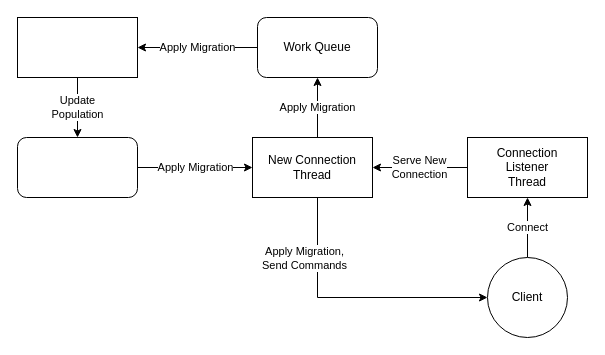
The diagram is 605 pixels wide and 355 high, and some of its shapes have lost their labels. Here are the shapes that lost their labels. From the top down, the box of each, then its label:
(16, 16, 138, 78): Migration Processing Thread
(16, 136, 138, 198): Server Population
